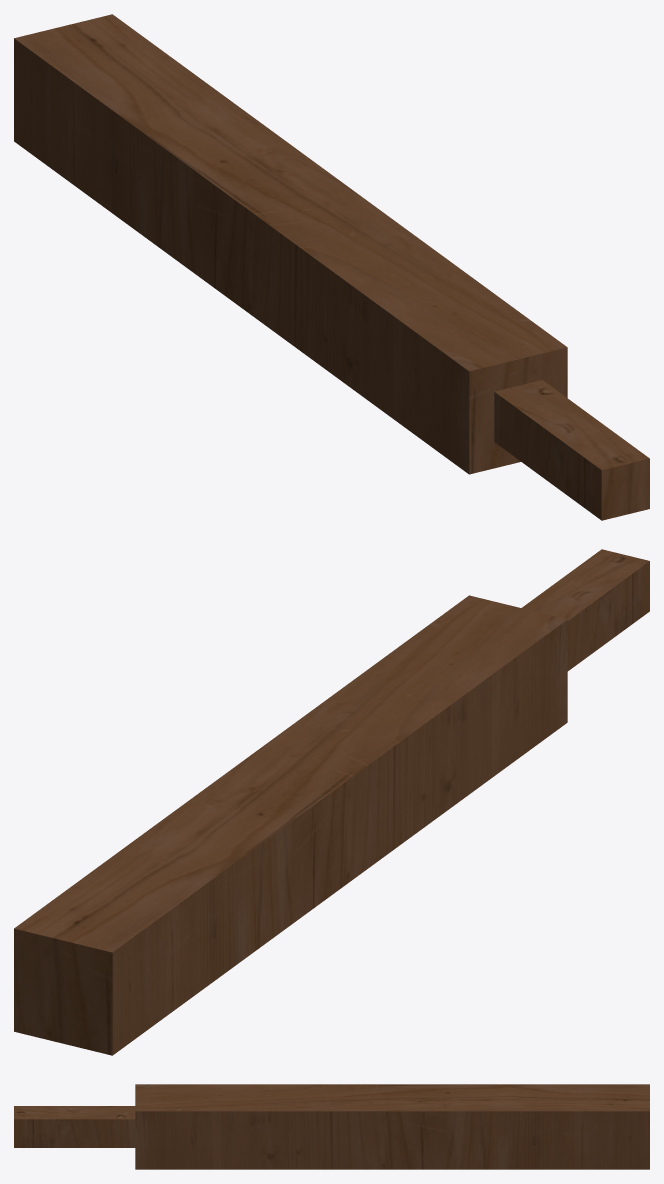
File: bat.glb
3 renders of one model, top to bottom at view 1: azimuth 30°, elevation 25°; view 2: azimuth 150°, elevation 25°; view 3: azimuth 270°, elevation 25°, orthographic. The views are drawn at different scales.
Parts seen in each view (by area): view 1: bat; view 2: bat; view 3: bat.
Boxes of the visible parts, <box> form: bat: <box>14,14,649,520</box>; bat: <box>14,549,649,1055</box>; bat: <box>14,1084,649,1169</box>.
Bounding box in the file's own units: 0.09 × 0.09 × 0.89.
1 material, 1 textured.
